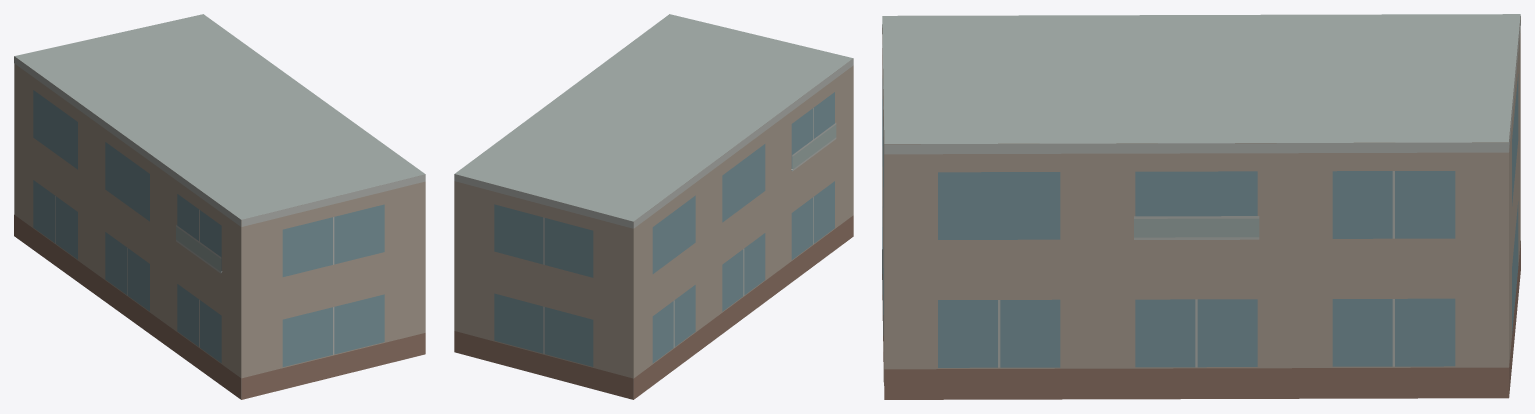
File: survey-upis-32658570.glb
The picture shows the model from 3 angles, left to right: view 1: azimuth 30°, elevation 25°; view 2: azimuth 150°, elevation 25°; view 3: azimuth 270°, elevation 25°; orthographic projection. The views are drawn at different scales.
Parts seen in each view (by area): view 1: survey-upis-32658570.tmp; view 2: survey-upis-32658570.tmp; view 3: survey-upis-32658570.tmp.
Part boxes in pixels (left/top/right/bottom): survey-upis-32658570.tmp: left=14, top=14, right=425, bottom=399; survey-upis-32658570.tmp: left=454, top=14, right=853, bottom=399; survey-upis-32658570.tmp: left=882, top=14, right=1520, bottom=399.
Size of the model in its own units: 6.66 by 6.1 by 13.81.
